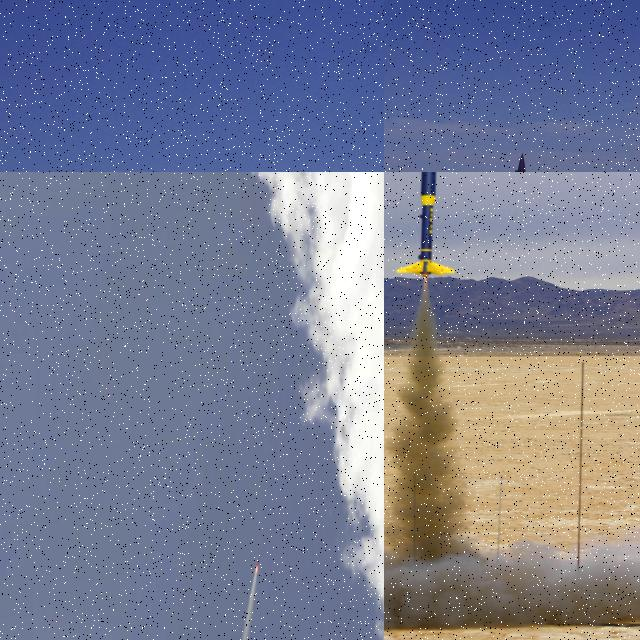Rocket: (395, 172, 457, 277), (496, 153, 535, 172), (256, 553, 260, 569)
